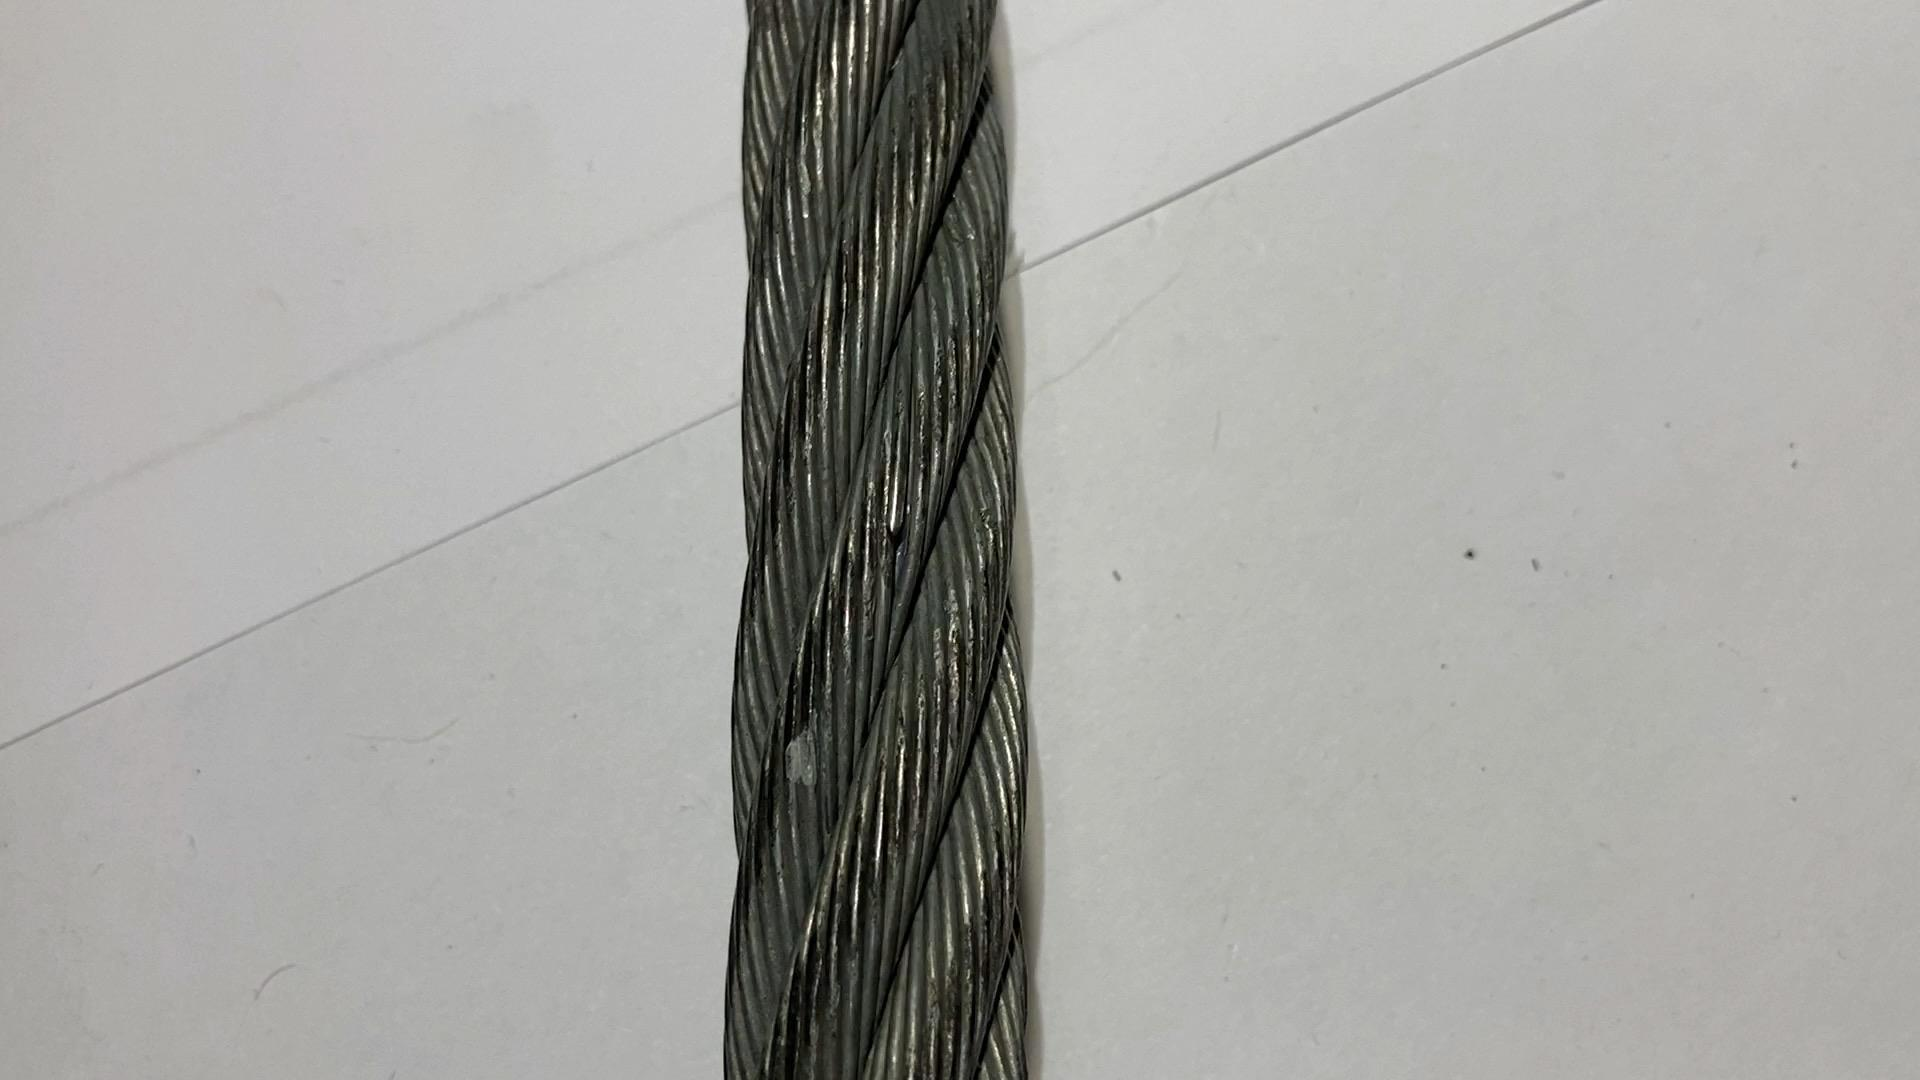break: (876, 460, 914, 554)
